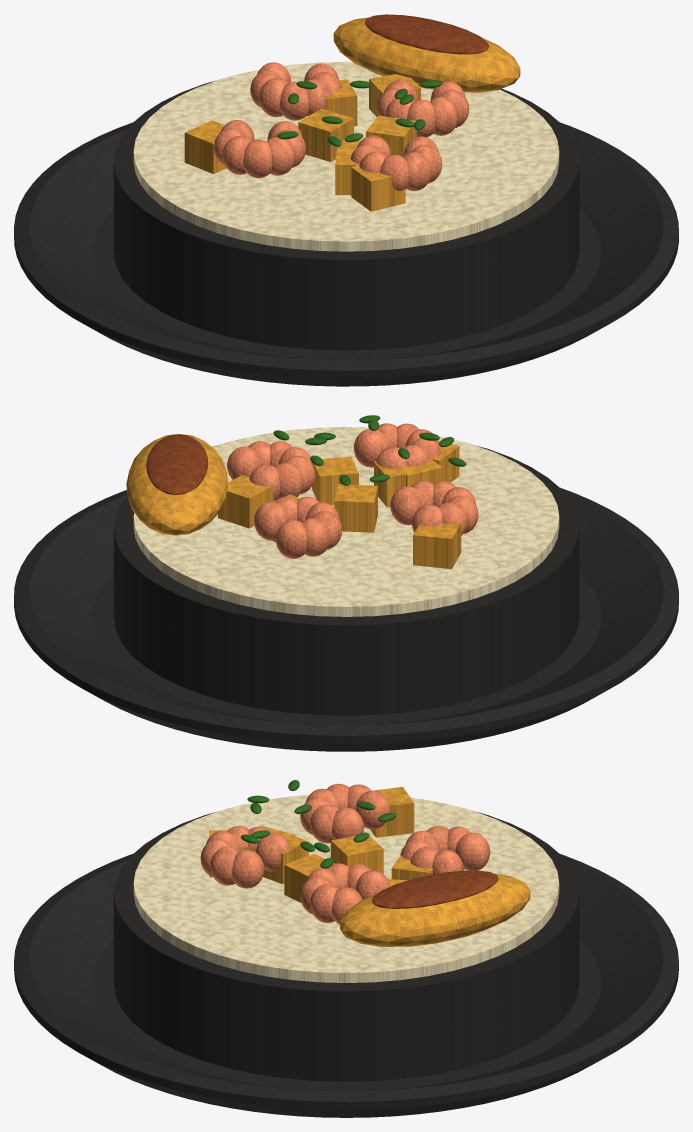
The model's file is ceviche-pacifico.glb.
3 renders of one model, top to bottom at view 1: azimuth 30°, elevation 25°; view 2: azimuth 150°, elevation 25°; view 3: azimuth 270°, elevation 25°, orthographic.
Parts seen in each view (by area): view 1: part1, part0, part2, part4, part3, part5, part6; view 2: part0, part1, part2, part4, part3, part5, part6; view 3: part1, part0, part2, part3, part4, part5, part6.
Part boxes in pixels (box(x1,y1,x2,y2)): part1: box(113, 80, 579, 350); part0: box(14, 122, 678, 386); part2: box(133, 61, 559, 251); part4: box(184, 17, 520, 211); part3: box(214, 62, 469, 191); part5: box(365, 14, 488, 54); part6: box(277, 80, 441, 146); part0: box(14, 487, 678, 751); part1: box(113, 446, 579, 715); part2: box(133, 427, 559, 616); part4: box(126, 434, 461, 568); part3: box(227, 423, 478, 558); part5: box(146, 434, 208, 494); part6: box(273, 415, 466, 485); part1: box(113, 812, 579, 1081); part0: box(14, 854, 678, 1117); part2: box(133, 794, 559, 982); part3: box(200, 783, 490, 924); part4: box(209, 787, 530, 946); part5: box(372, 870, 498, 908); part6: box(241, 780, 396, 868).
Size of the model in its own units: 0.3 by 0.092 by 0.3.
Materials: 7 (7 with a texture image).
